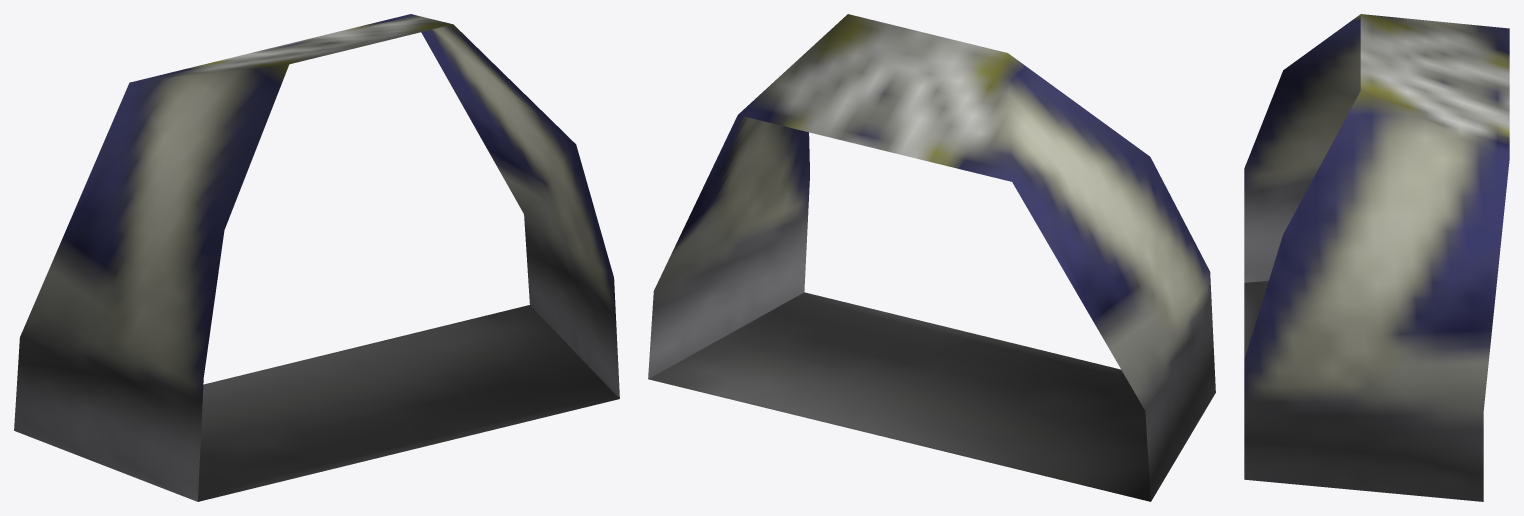
Rendered from batch_0116.obj.
3 views of the same model, side by side, from view 1: azimuth 30°, elevation 25°; view 2: azimuth 150°, elevation 25°; view 3: azimuth 270°, elevation 25° (orthographic). The views are drawn at different scales.
Visible parts, largest first — view 1: batch_0116; view 2: batch_0116; view 3: batch_0116.
Boxes of the visible parts, x1,y1,x2,y2 form: batch_0116: [14, 14, 619, 501]; batch_0116: [648, 14, 1215, 501]; batch_0116: [1244, 14, 1509, 501].
Bounding box in the file's own units: 22 × 14.75 × 10.25.
1 material, 1 textured.
